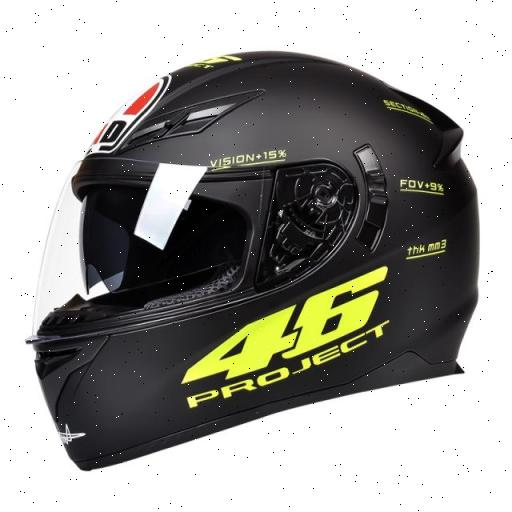Helmet: (29, 52, 478, 469)
